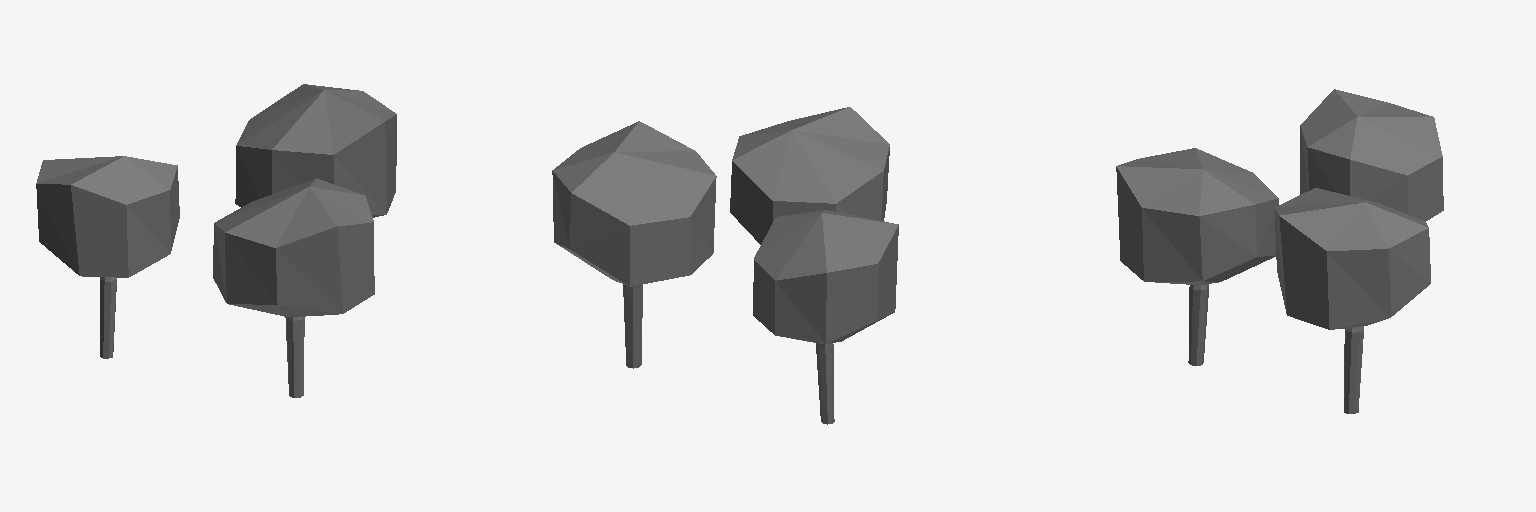
The model's file is circle_Tree_Group1.obj.
3 views of the same model, side by side, from view 1: azimuth 30°, elevation 25°; view 2: azimuth 150°, elevation 25°; view 3: azimuth 270°, elevation 25° (orthographic).
Parts seen in each view (by area): view 1: weird_TreeGroup2:pCylinder4; view 2: weird_TreeGroup2:pCylinder4; view 3: weird_TreeGroup2:pCylinder4.
Part boxes in pixels (x1,y1,x2,y2): weird_TreeGroup2:pCylinder4: (36,84,396,397); weird_TreeGroup2:pCylinder4: (552,107,898,424); weird_TreeGroup2:pCylinder4: (1116,89,1443,413).
Size of the model in its own units: 198 by 124 by 171.